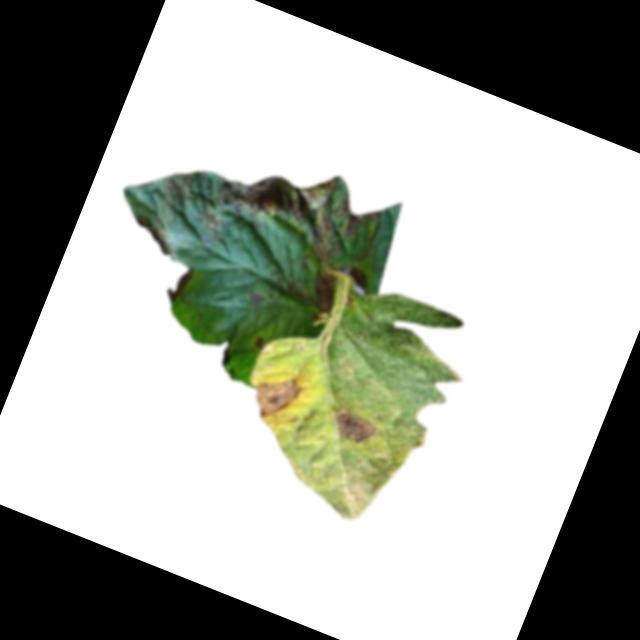Early_blight: (207, 135, 392, 278), (247, 367, 309, 431), (326, 405, 381, 450), (127, 214, 181, 256), (159, 261, 196, 308), (302, 268, 340, 311), (254, 333, 271, 349)
